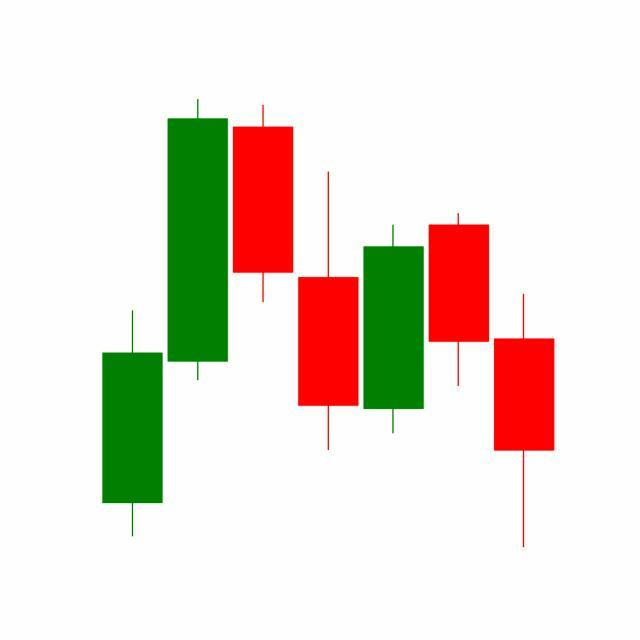Hikkake Pattern: (165, 100, 492, 456)
